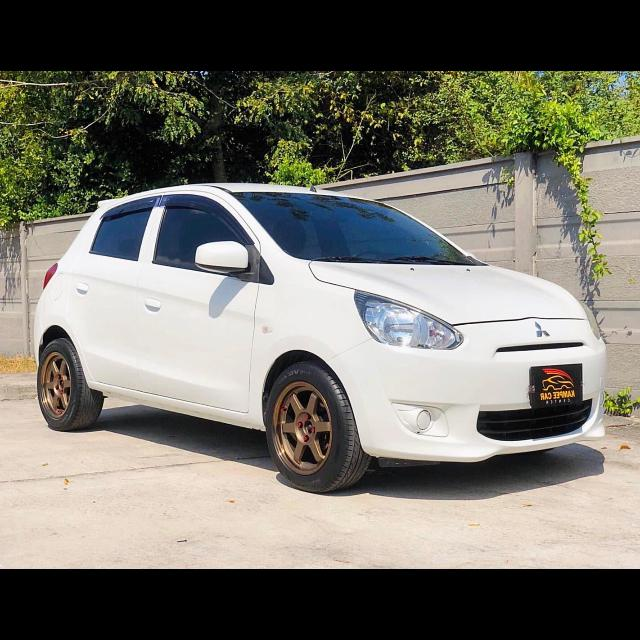cars: (21, 171, 612, 493)
